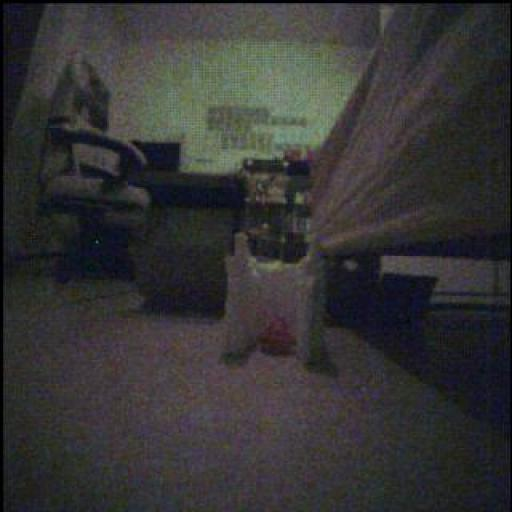basket: (261, 317, 297, 357)
